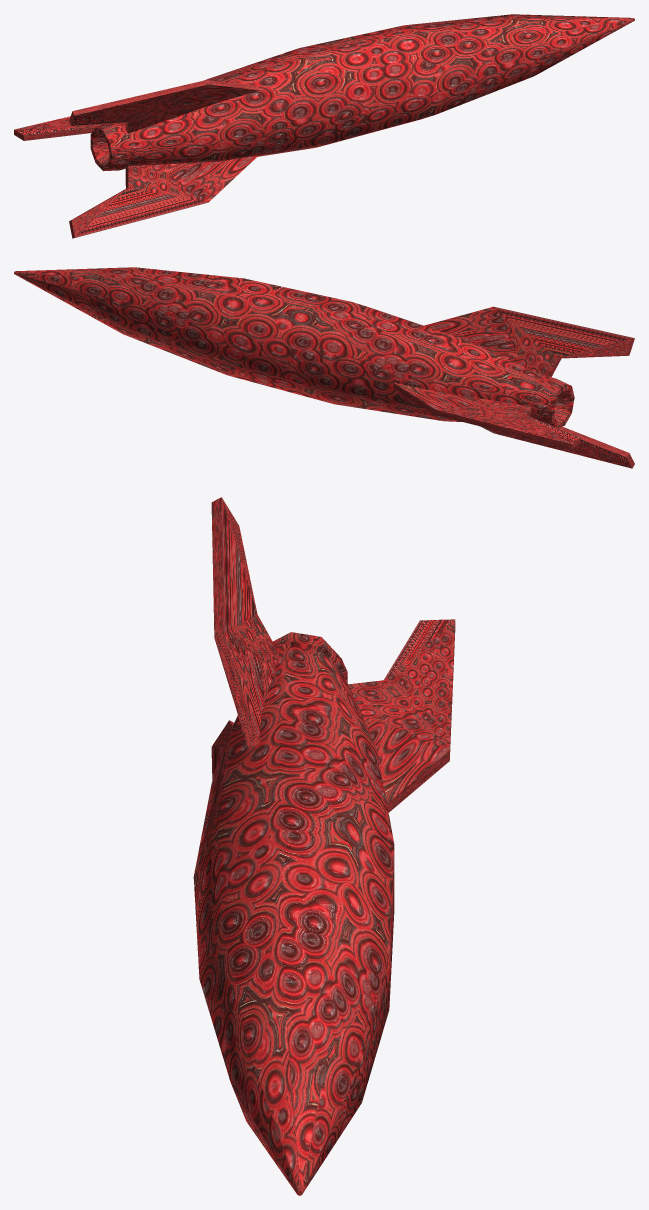
File: rocket.obj
3 renders of one model, top to bottom at view 1: azimuth 30°, elevation 25°; view 2: azimuth 150°, elevation 25°; view 3: azimuth 270°, elevation 25°, orthographic. The views are drawn at different scales.
Bounding box in the file's own units: 6.92 × 1.45 × 1.35.
Materials: 1 (1 with a texture image).
